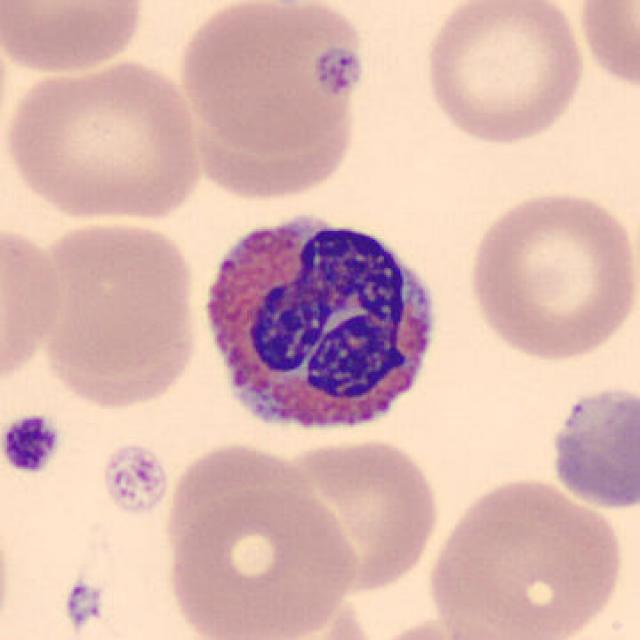Eosinophil: (188, 196, 452, 457)
Platelets: (96, 441, 172, 520), (0, 411, 64, 478), (311, 44, 366, 102), (60, 577, 105, 631)
RBC: (0, 54, 208, 226), (423, 472, 627, 640), (462, 185, 638, 365), (160, 483, 361, 640), (172, 0, 372, 157), (28, 215, 201, 388), (276, 432, 444, 596), (182, 48, 360, 202), (159, 440, 328, 594), (419, 0, 588, 146), (540, 377, 640, 513), (2, 0, 151, 78), (0, 217, 66, 390), (244, 589, 384, 640), (572, 0, 638, 95), (357, 613, 520, 640), (0, 509, 14, 640)
